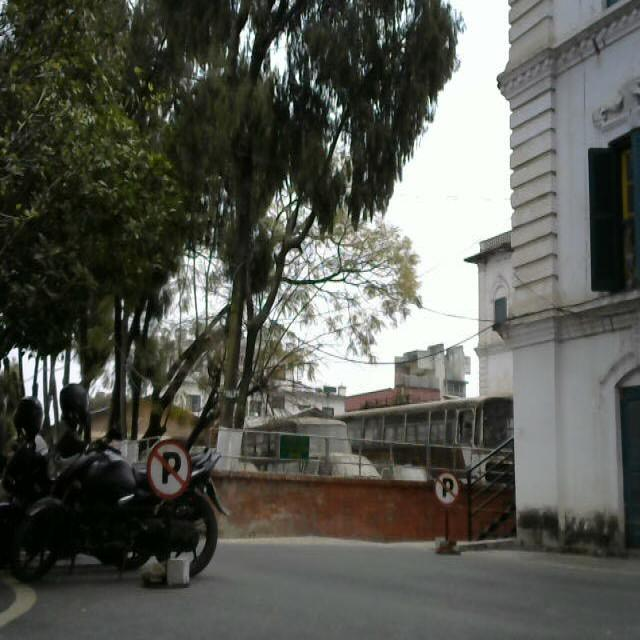Bike: (0, 353, 250, 584)
Buildings: (502, 3, 640, 569)
NoParking: (135, 434, 206, 620), (434, 468, 463, 564)
Road: (228, 540, 640, 640)
trees: (0, 0, 427, 400)
